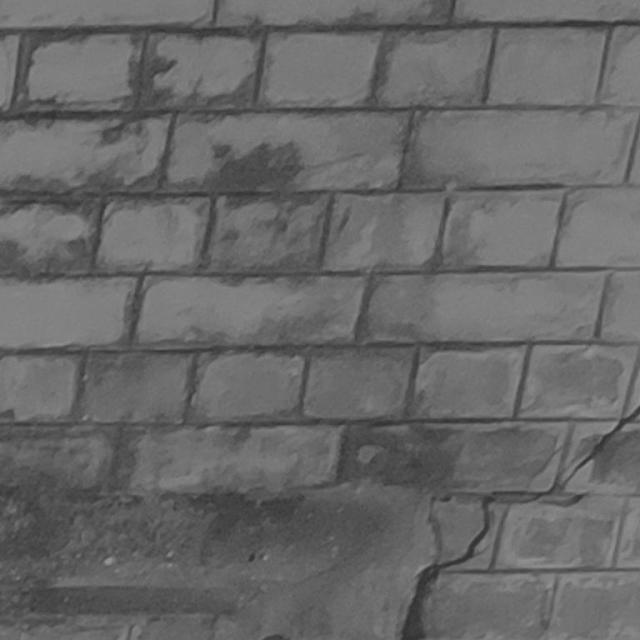crack: (400, 406, 639, 640)
